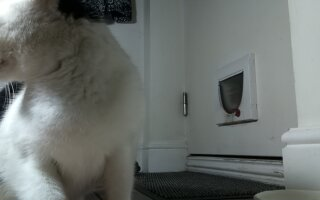bad: (1, 2, 140, 197)
